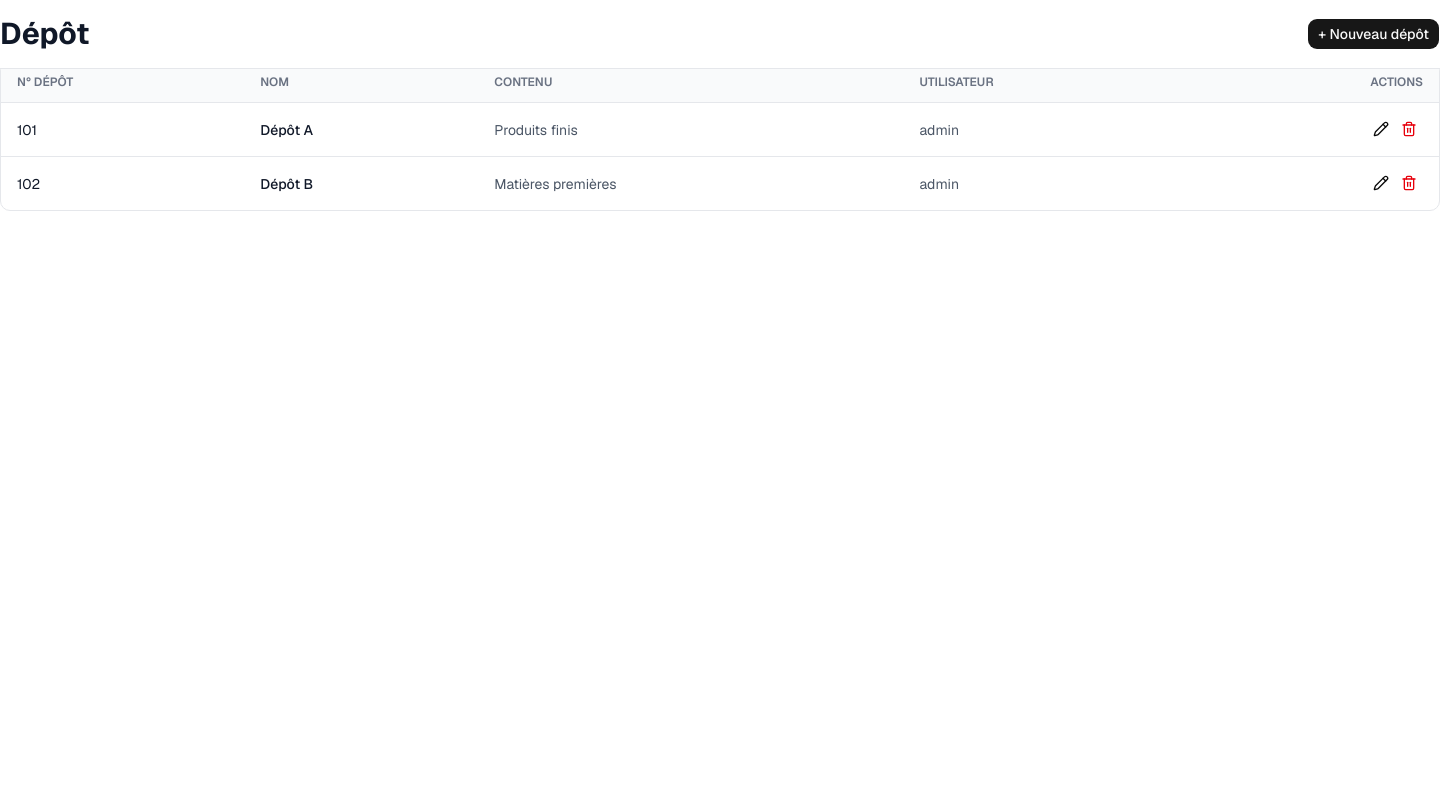
closes delete dialog via close button
Expected: the text "Dépôt A" is shown, [244,102,478,156]
Click the button named "supprimer" in the row of "101": (1409, 129) [1395,115,1423,143]
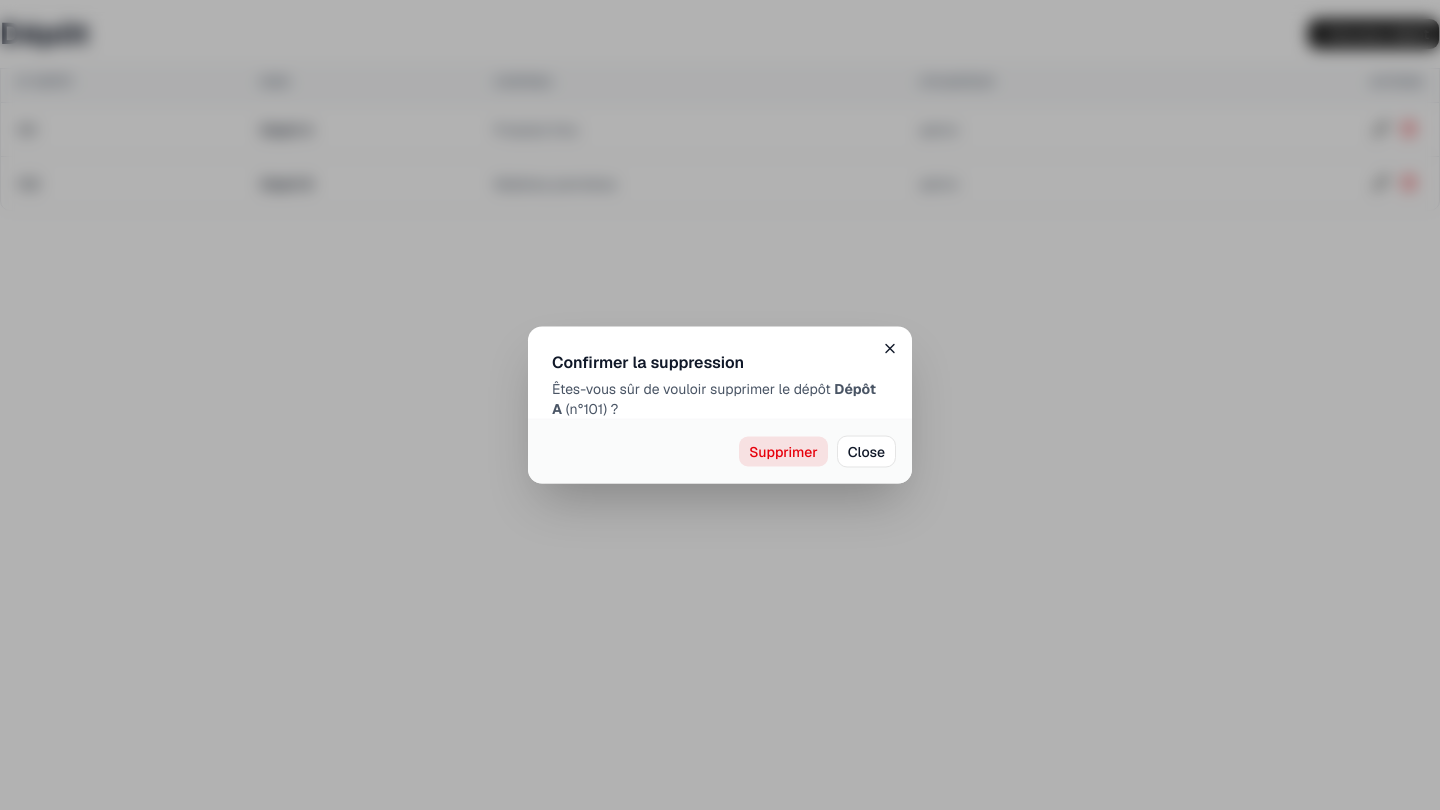
Now the text "Êtes-vous sûr" is shown, box [552,380,834,398]
Click the button "Close": (866, 452) [837,436,896,468]
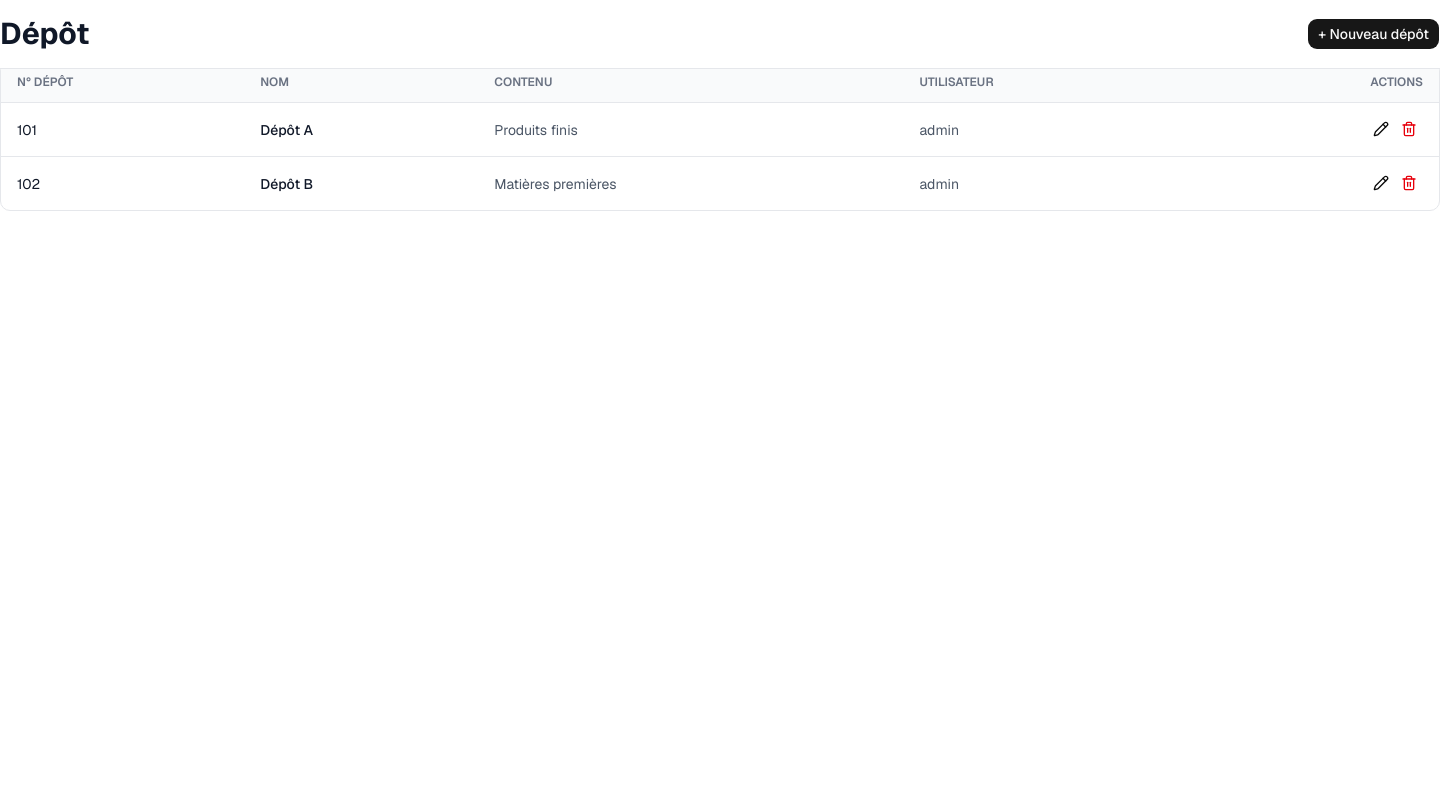
Now the text "Êtes-vous sûr" is gone
